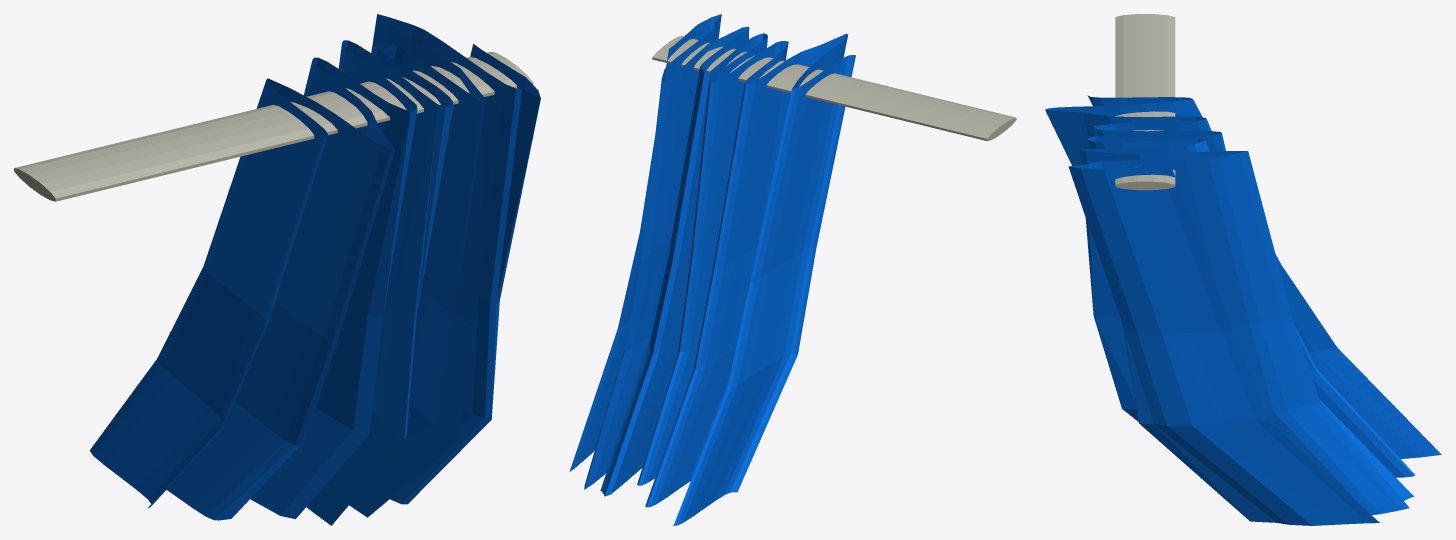
Rendered from sh-kl-shower-curtain.glb.
3 views of the same model, side by side, from view 1: azimuth 30°, elevation 25°; view 2: azimuth 150°, elevation 25°; view 3: azimuth 270°, elevation 25° (orthographic). The views are drawn at different scales.
Parts seen in each view (by area): view 1: Shower_curtain, Shower_rod; view 2: Shower_curtain, Shower_rod; view 3: Shower_curtain, Shower_rod.
Part boxes in pixels (x1=…): Shower_curtain: x1=89, y1=14, x2=540, y2=525; Shower_rod: x1=14, y1=51, x2=533, y2=201; Shower_curtain: x1=569, y1=14, x2=855, y2=525; Shower_rod: x1=652, y1=36, x2=1016, y2=141; Shower_curtain: x1=1045, y1=95, x2=1441, y2=525; Shower_rod: x1=1115, y1=14, x2=1175, y2=190.
Bounding box in the file's own units: 1 × 1 × 1.
